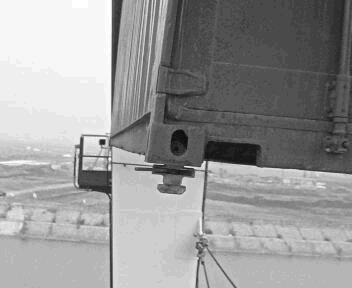twist_lock_1: (148, 162, 197, 200)
